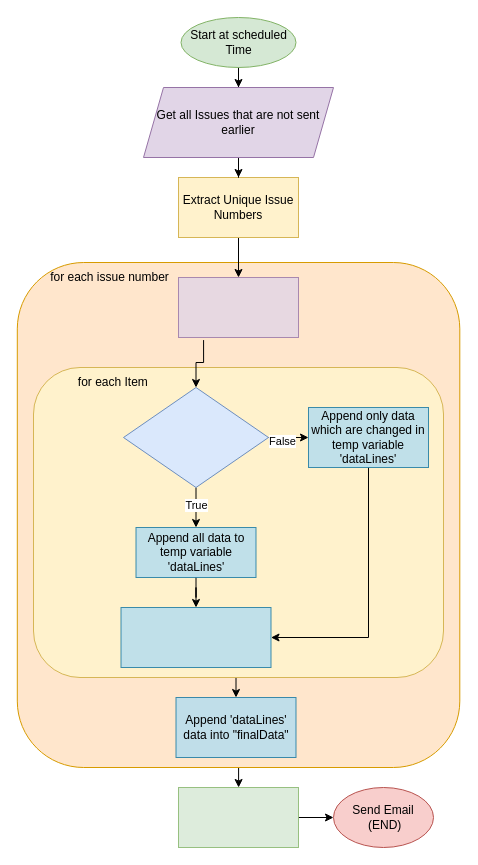
This 478x865 diagram has some shape labels left out. Each missing label, with the centre of its shape:
"Check first item with current item" belongs at (195,437).
"Format final result using inline js code for email" belongs at (238,817).
"Get all items for the current issue number" belongs at (238,307).
"Update isDeleted = 'True' in 'DataUpdates' table for current item row" belongs at (195,637).
